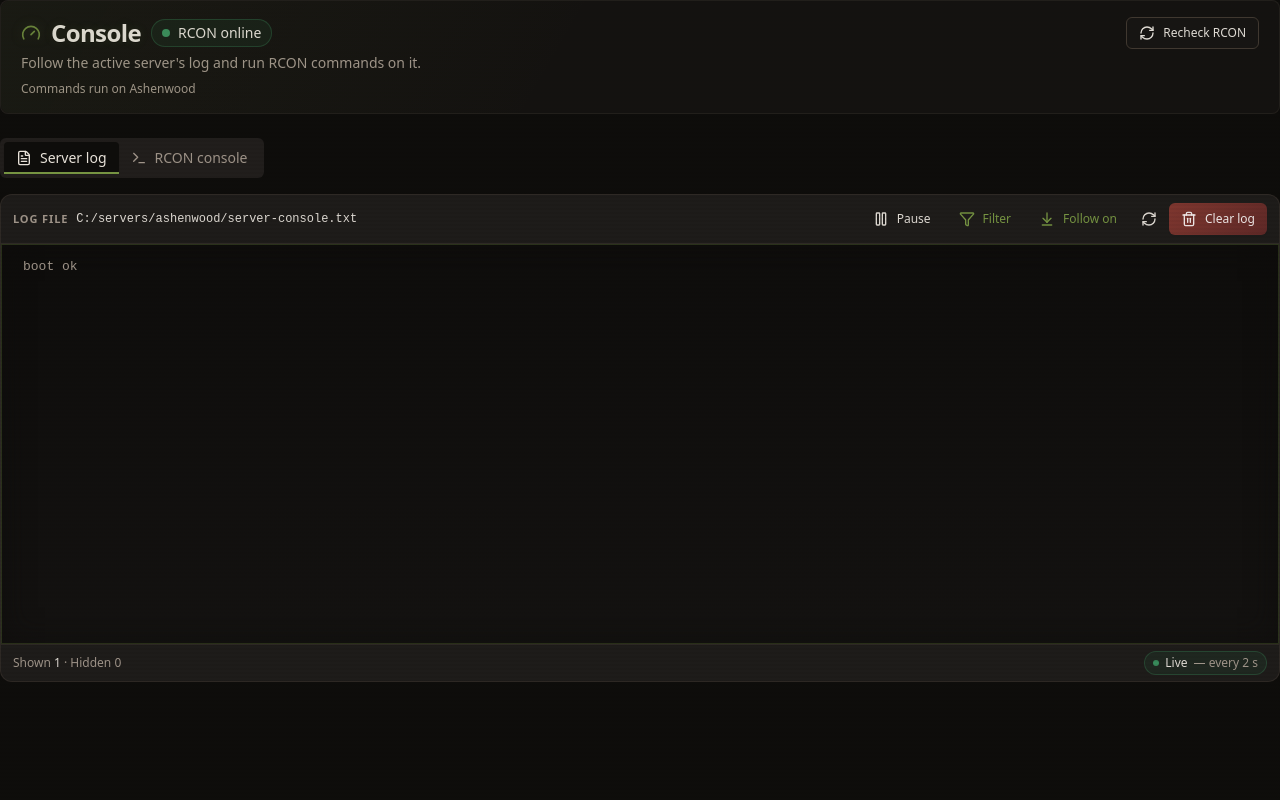
Test: Console -- quick commands fill, they do not execute › clicking a quick command button fills the input instead of executing it
Press the mouse on the tab "RCON console": (189, 158) [118,142,260,174]
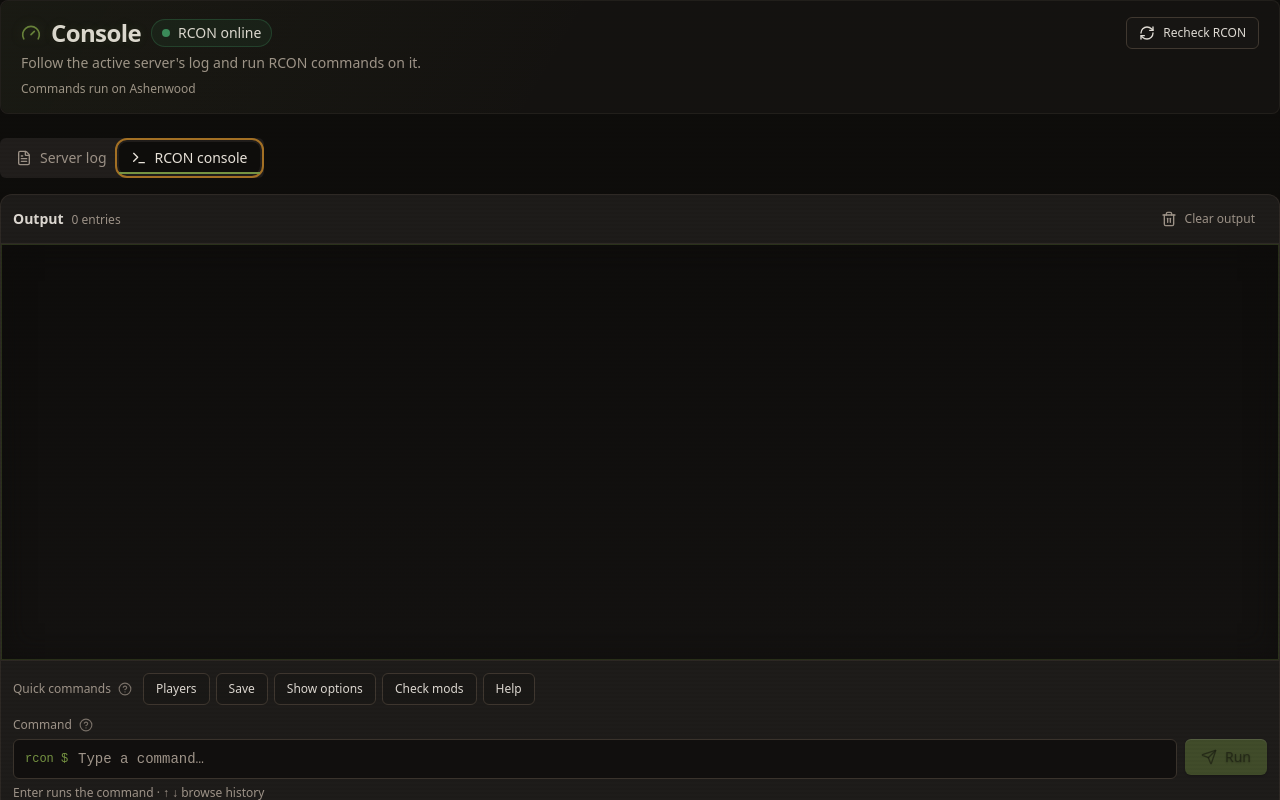
Click the button "Save": (242, 689) [216,673,268,705]
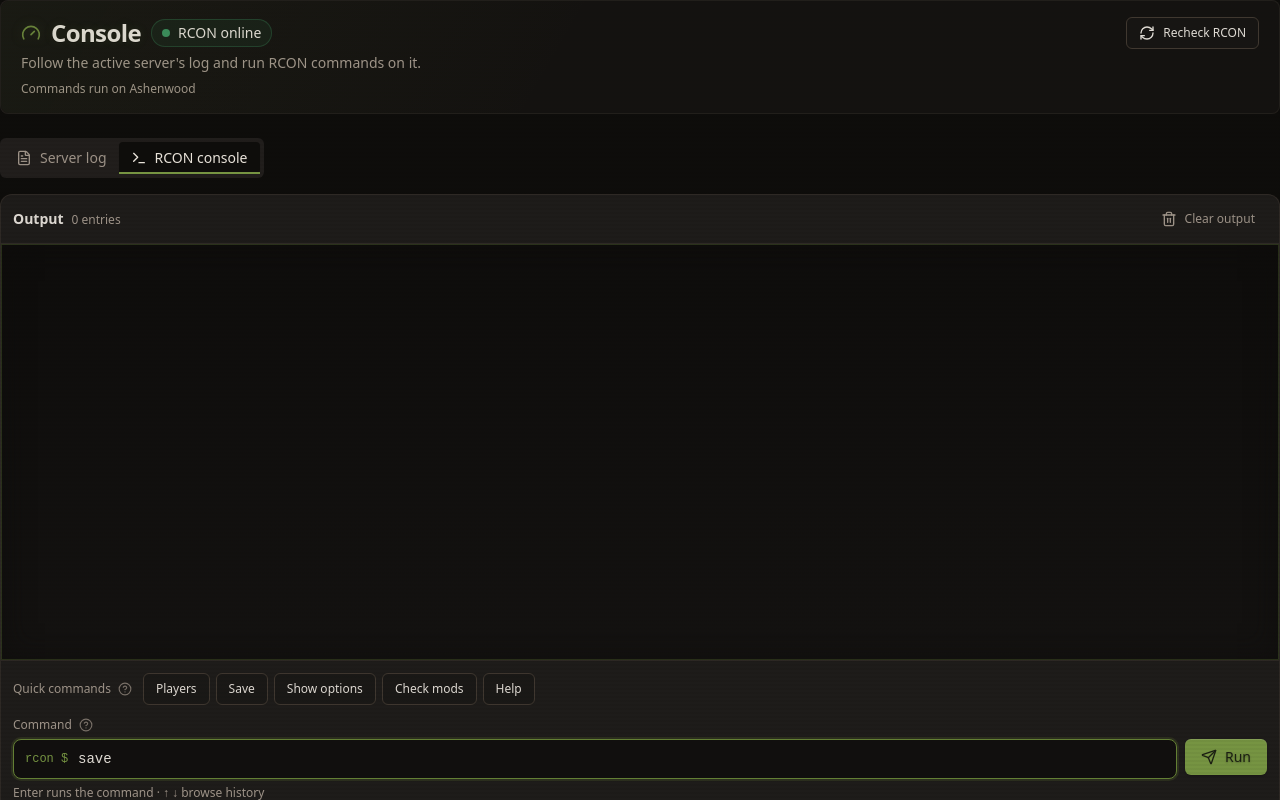
Now the field with placeholder "Type a command…" holds "save", box [13,739,1177,779]
